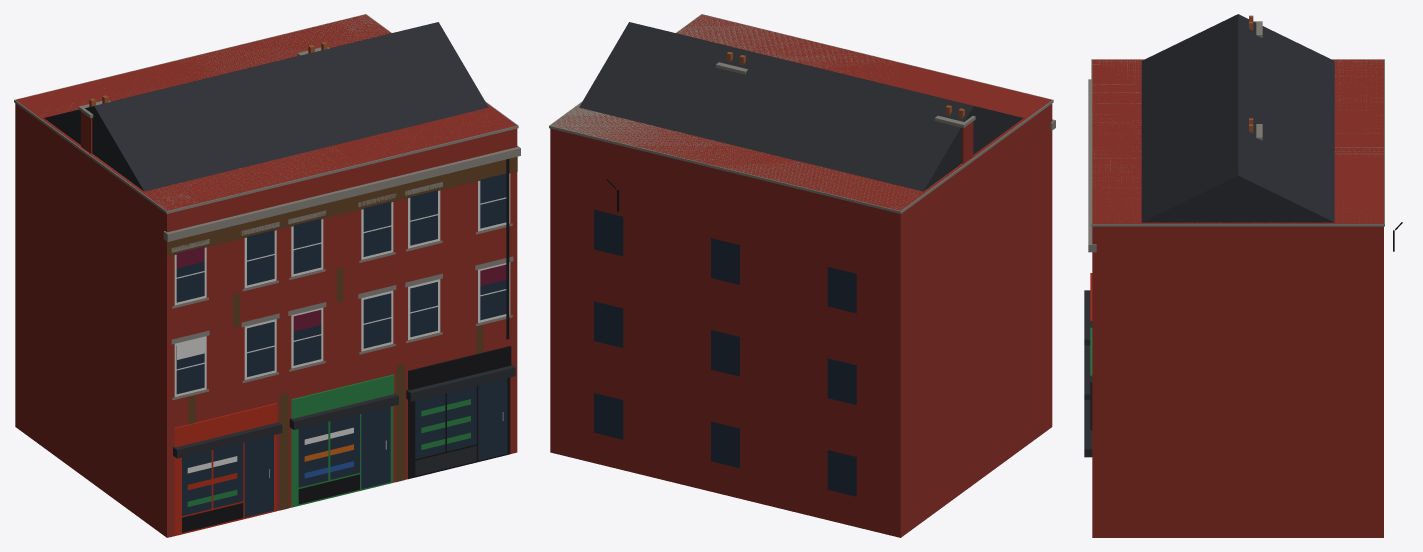
File: bld_rye-lane-terrace_c.glb
The picture shows the model from 3 angles, left to right: view 1: azimuth 30°, elevation 25°; view 2: azimuth 150°, elevation 25°; view 3: azimuth 270°, elevation 25°; orthographic projection. The views are drawn at different scales.
Parts seen in each view (by area): view 1: body; view 2: body; view 3: body.
Part boxes in pixels (x1,y1,x2,y2): body: (14,14,520,537); body: (549,14,1055,537); body: (1084,14,1402,537).
Size of the model in its own units: 12.1 by 12.3 by 10.01.
